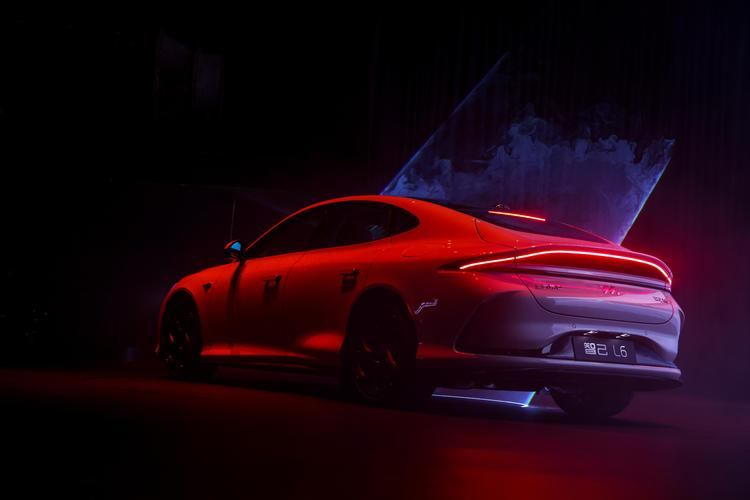汽车: (155, 190, 689, 426)
